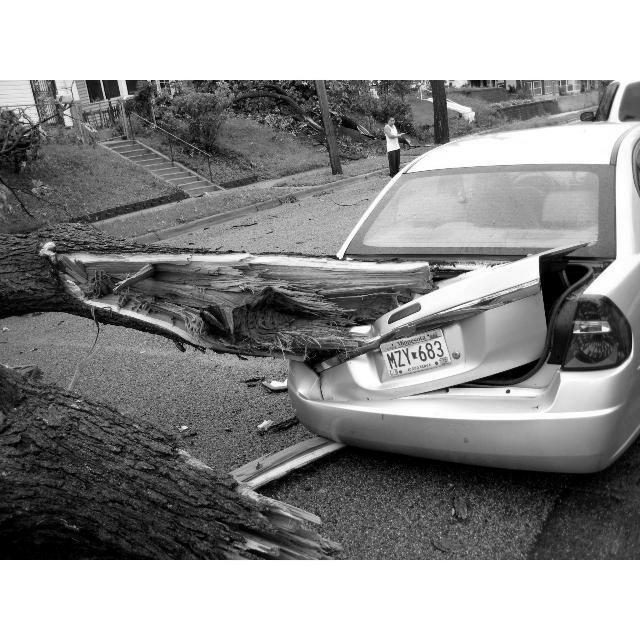boot-dent: (316, 261, 552, 398)
